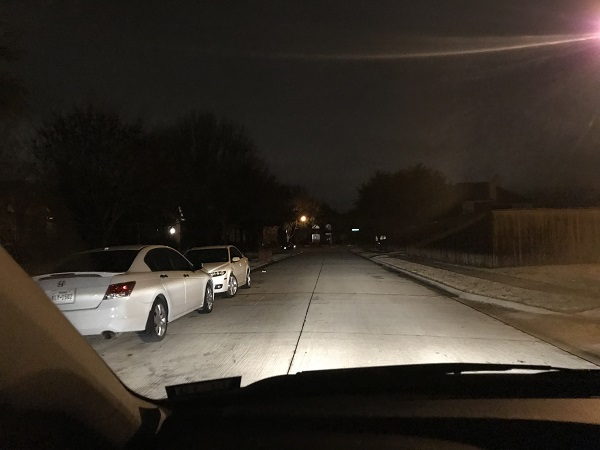car: (24, 245, 216, 342), (183, 243, 253, 296)
